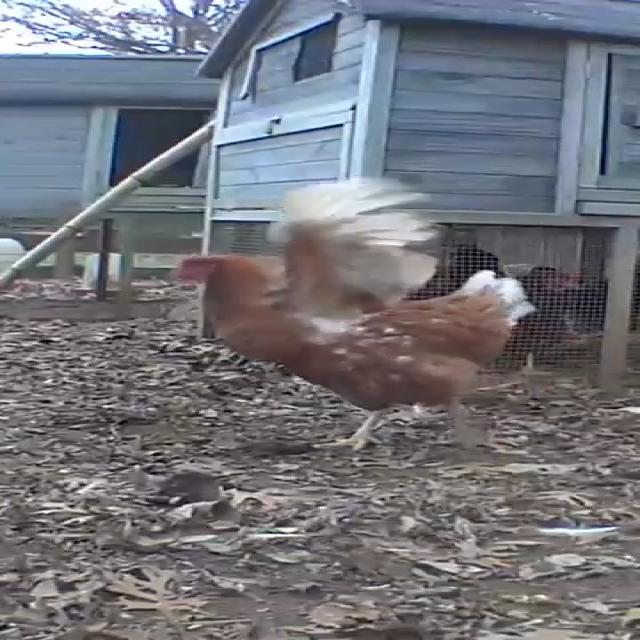wing flap: (146, 178, 544, 468)
